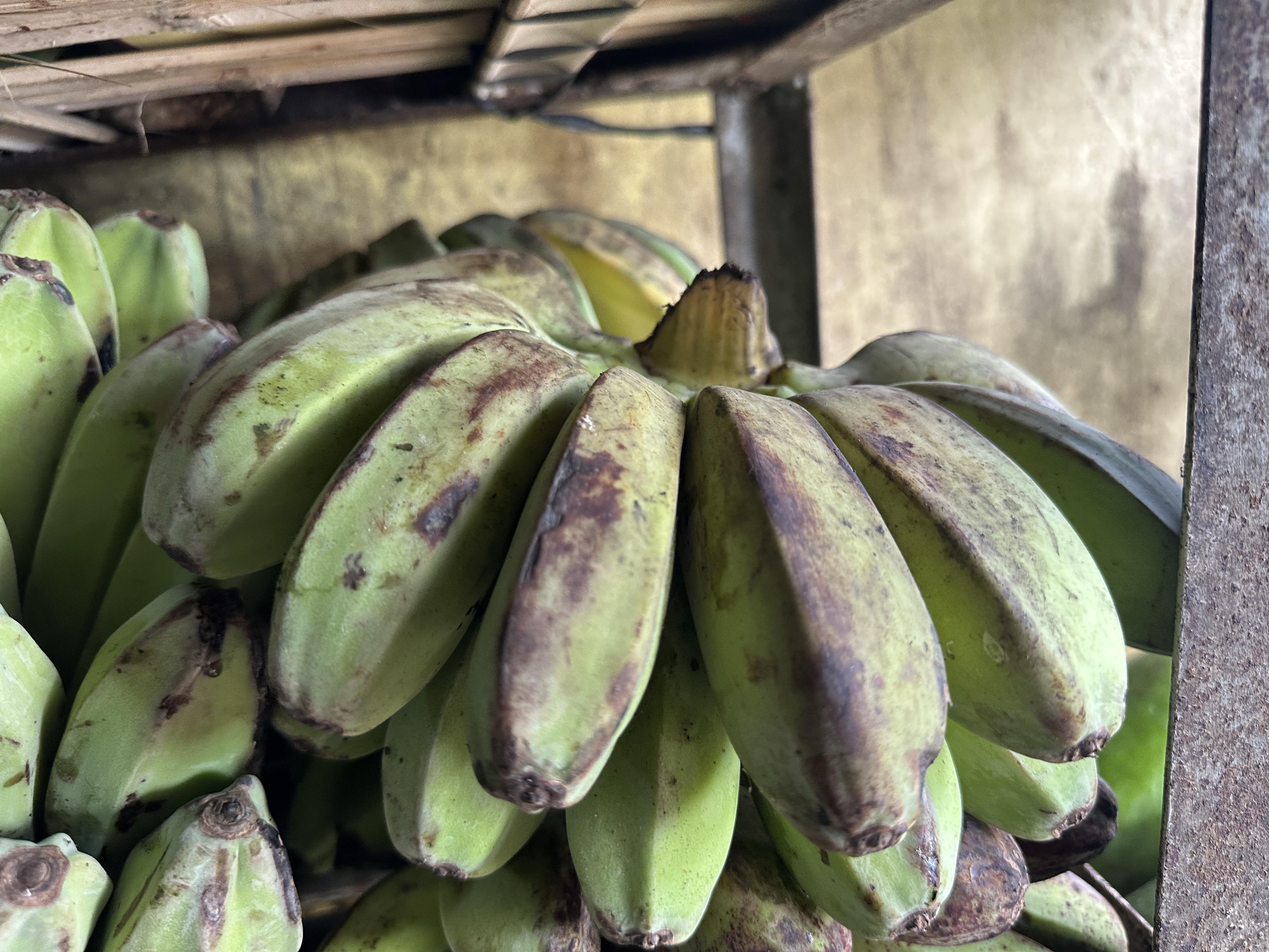underripe: (142, 249, 1181, 946), (0, 189, 302, 952), (237, 208, 704, 342)
